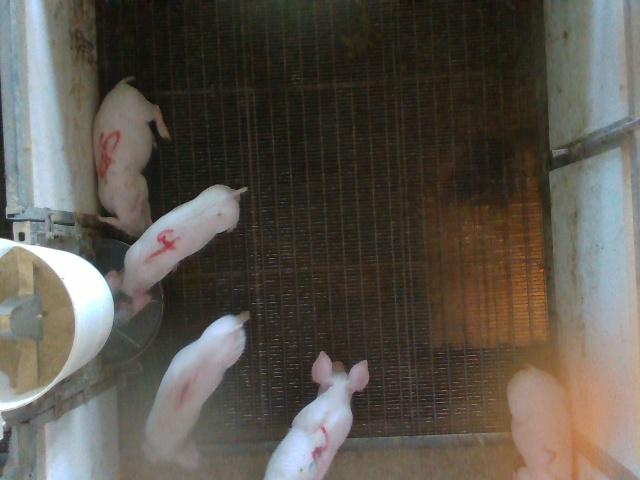pig-1: (142, 311, 250, 468)
pig-3: (265, 352, 369, 479)
pig-4: (106, 185, 244, 313)
pig-5: (94, 76, 170, 237)
